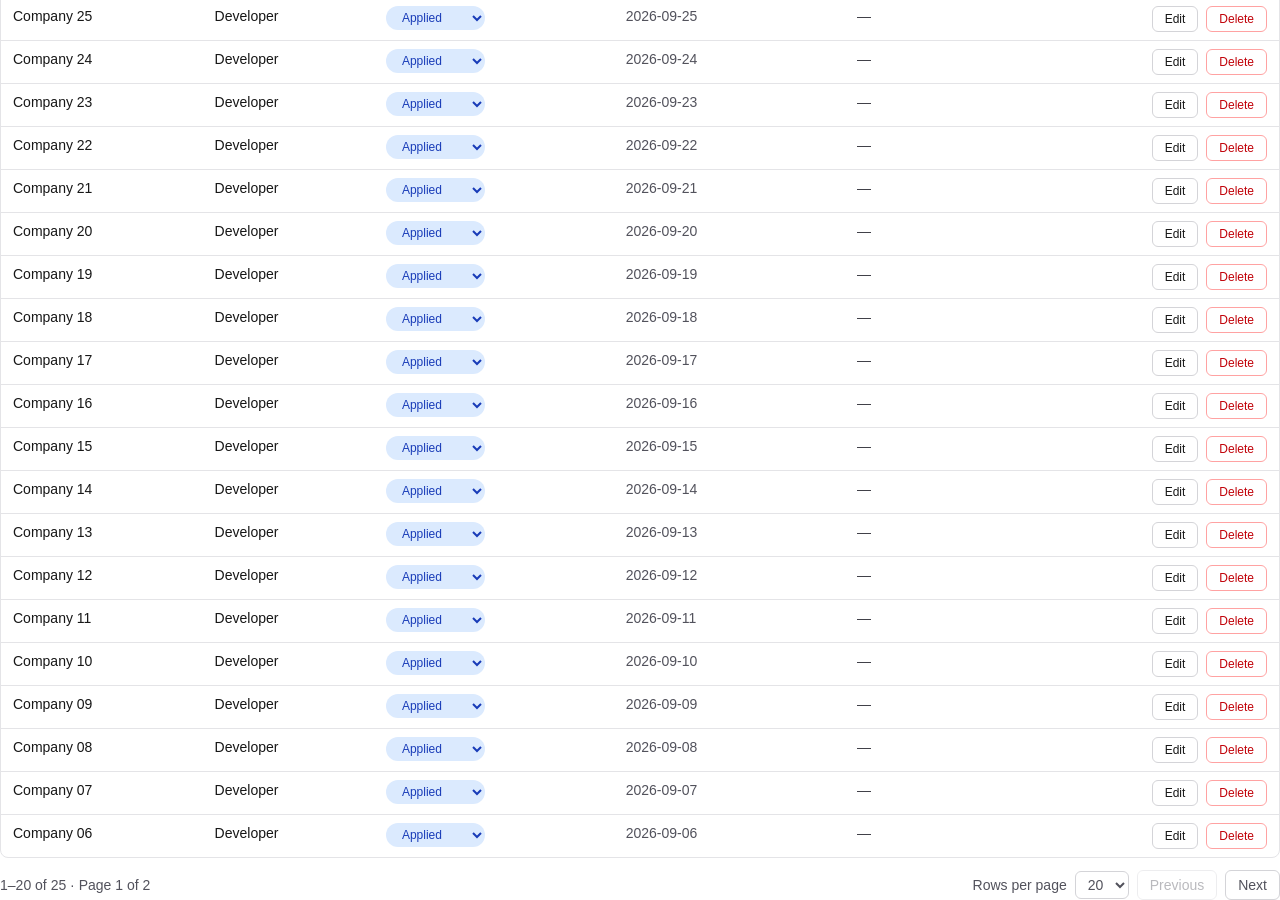
Scenario: ApplicationTable pagination › goes back to page 1 when sorting changes
The width and height of the screenshot is (1280, 900).
(page scrolled)
Click the button "Next" at {"x": 1253, "y": 885}, box [1225,870,1279,899]
(page scrolled)
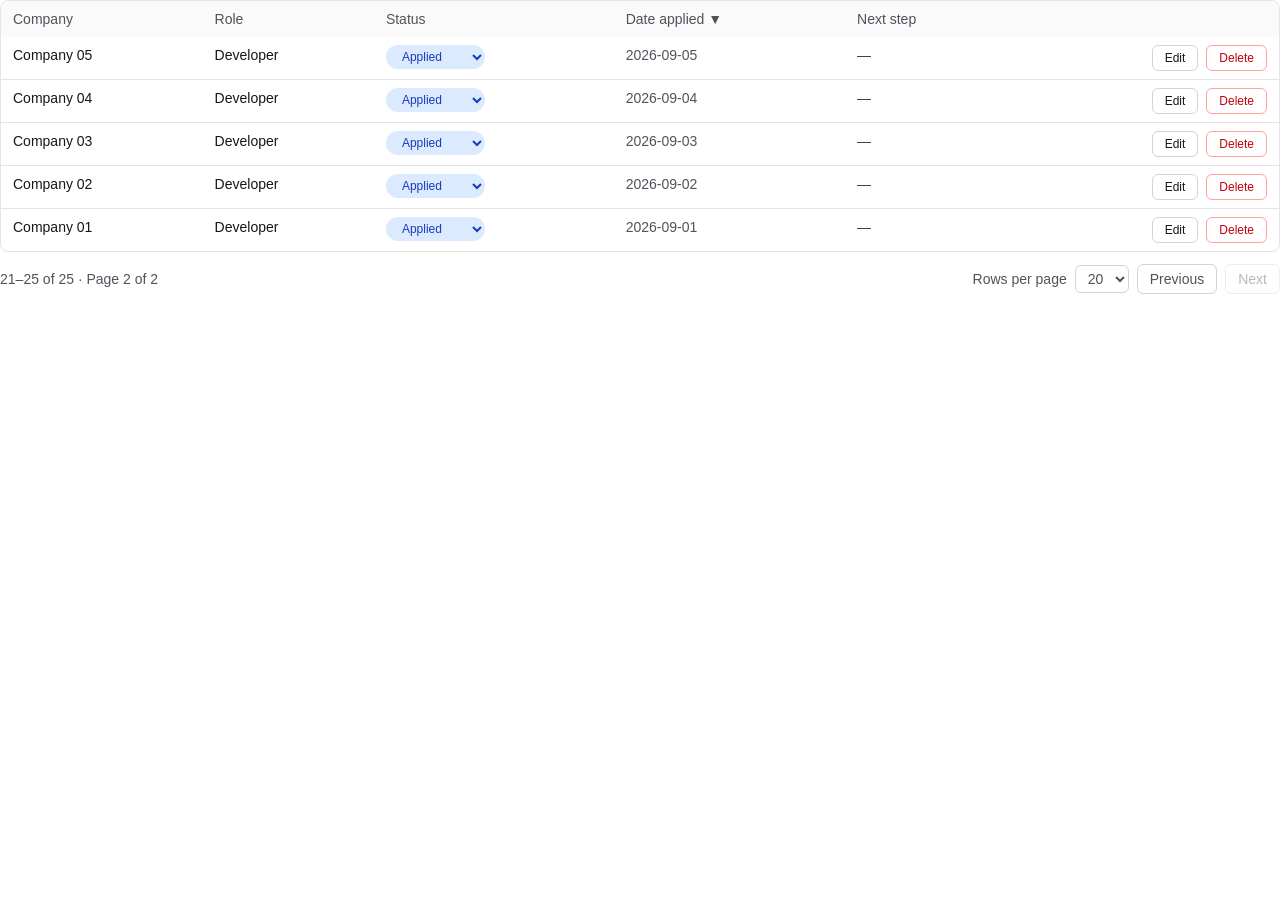
Click the button "Company" at {"x": 51, "y": 19}, box [13,9,89,29]
(page scrolled)
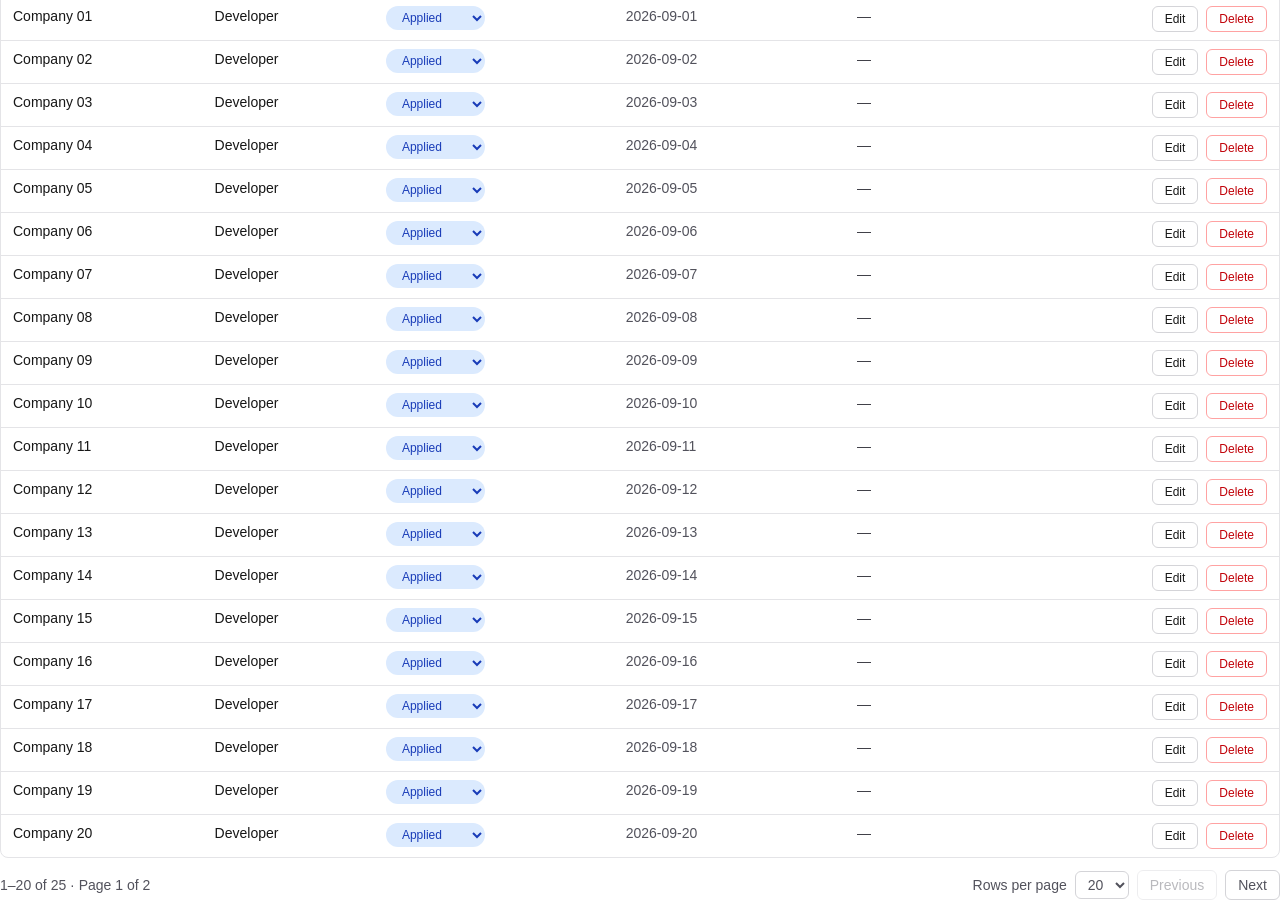
expect the text "1–20 of 25 · Page 1 of 2" is shown: met, box [0,875,150,895]
